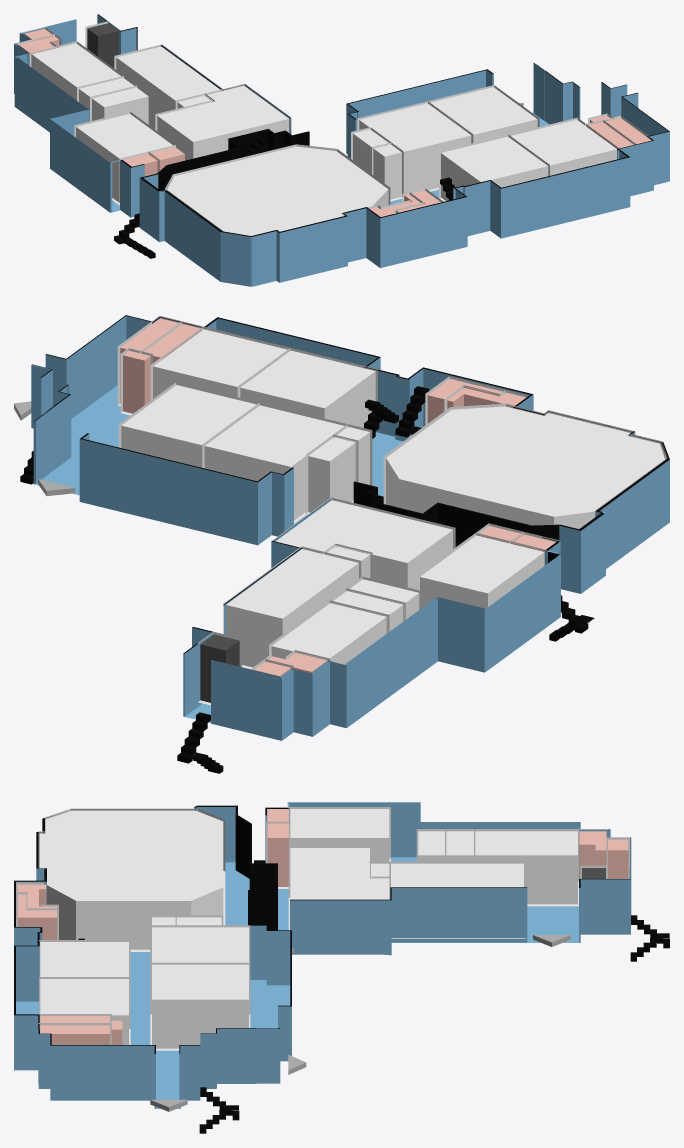
The picture shows the model from 3 angles, top to bottom: view 1: azimuth 30°, elevation 25°; view 2: azimuth 150°, elevation 25°; view 3: azimuth 270°, elevation 25°; orthographic projection. The views are drawn at different scales.
Visible parts, largest first — view 1: object, room_1_1_1, room_1_1_11, room_1_1_10, room_1_1_2, room_1_1_13, room_1_1_9, room_1_1_3, room_1_1_12, room_1_1_14, room_1_1_7, room_1_1_6 (+11 smaller); view 2: object, room_1_1_1, room_1_1_11, room_1_1_13, room_1_1_10, room_1_1_2, room_1_1_9, room_1_1_12, room_1_1_3, room_1_1_14, room_1_1_8, トイレ_1_1_1 (+13 smaller); view 3: object, room_1_1_1, room_1_1_9, room_1_1_14, room_1_1_11, room_1_1_12, room_1_1_10, room_1_1_3, room_1_1_13, room_1_1_2, トイレ_1_1_3, トイレ_1_1_4 (+13 smaller).
Boxes of the visible parts, x1,y1,x2,y2 form: object: (14,14,669,286); room_1_1_1: (167,146,388,235); room_1_1_11: (157,86,289,159); room_1_1_10: (359,103,471,193); room_1_1_2: (441,136,548,200); room_1_1_13: (116,46,221,129); room_1_1_9: (428,87,537,143); room_1_1_3: (511,120,616,175); room_1_1_12: (76,114,174,202); room_1_1_14: (31,43,122,101); room_1_1_7: (92,87,148,124); room_1_1_6: (373,144,401,199); object: (31,315,669,740); room_1_1_1: (386,406,664,528); room_1_1_11: (275,500,452,589); room_1_1_13: (226,549,358,667); room_1_1_10: (204,405,344,520); room_1_1_2: (240,350,375,427); room_1_1_9: (121,385,258,468); room_1_1_12: (420,535,544,608); room_1_1_3: (153,329,287,398); room_1_1_14: (271,603,386,664); room_1_1_8: (308,437,355,512); トイレ_1_1_1: (123,351,150,413); object: (14,802,631,1108); room_1_1_1: (40,811,223,949); room_1_1_9: (152,964,248,1048); room_1_1_14: (475,831,577,904); room_1_1_11: (290,848,389,899); room_1_1_12: (290,809,389,861); room_1_1_10: (152,927,248,964); room_1_1_3: (40,979,128,1044); room_1_1_13: (391,863,523,887); room_1_1_2: (40,942,128,976); トイレ_1_1_3: (40,1025,109,1044); トイレ_1_1_4: (267,823,288,886).
Bounding box in the file's own units: 2.34 × 0.3922 × 2.44.
